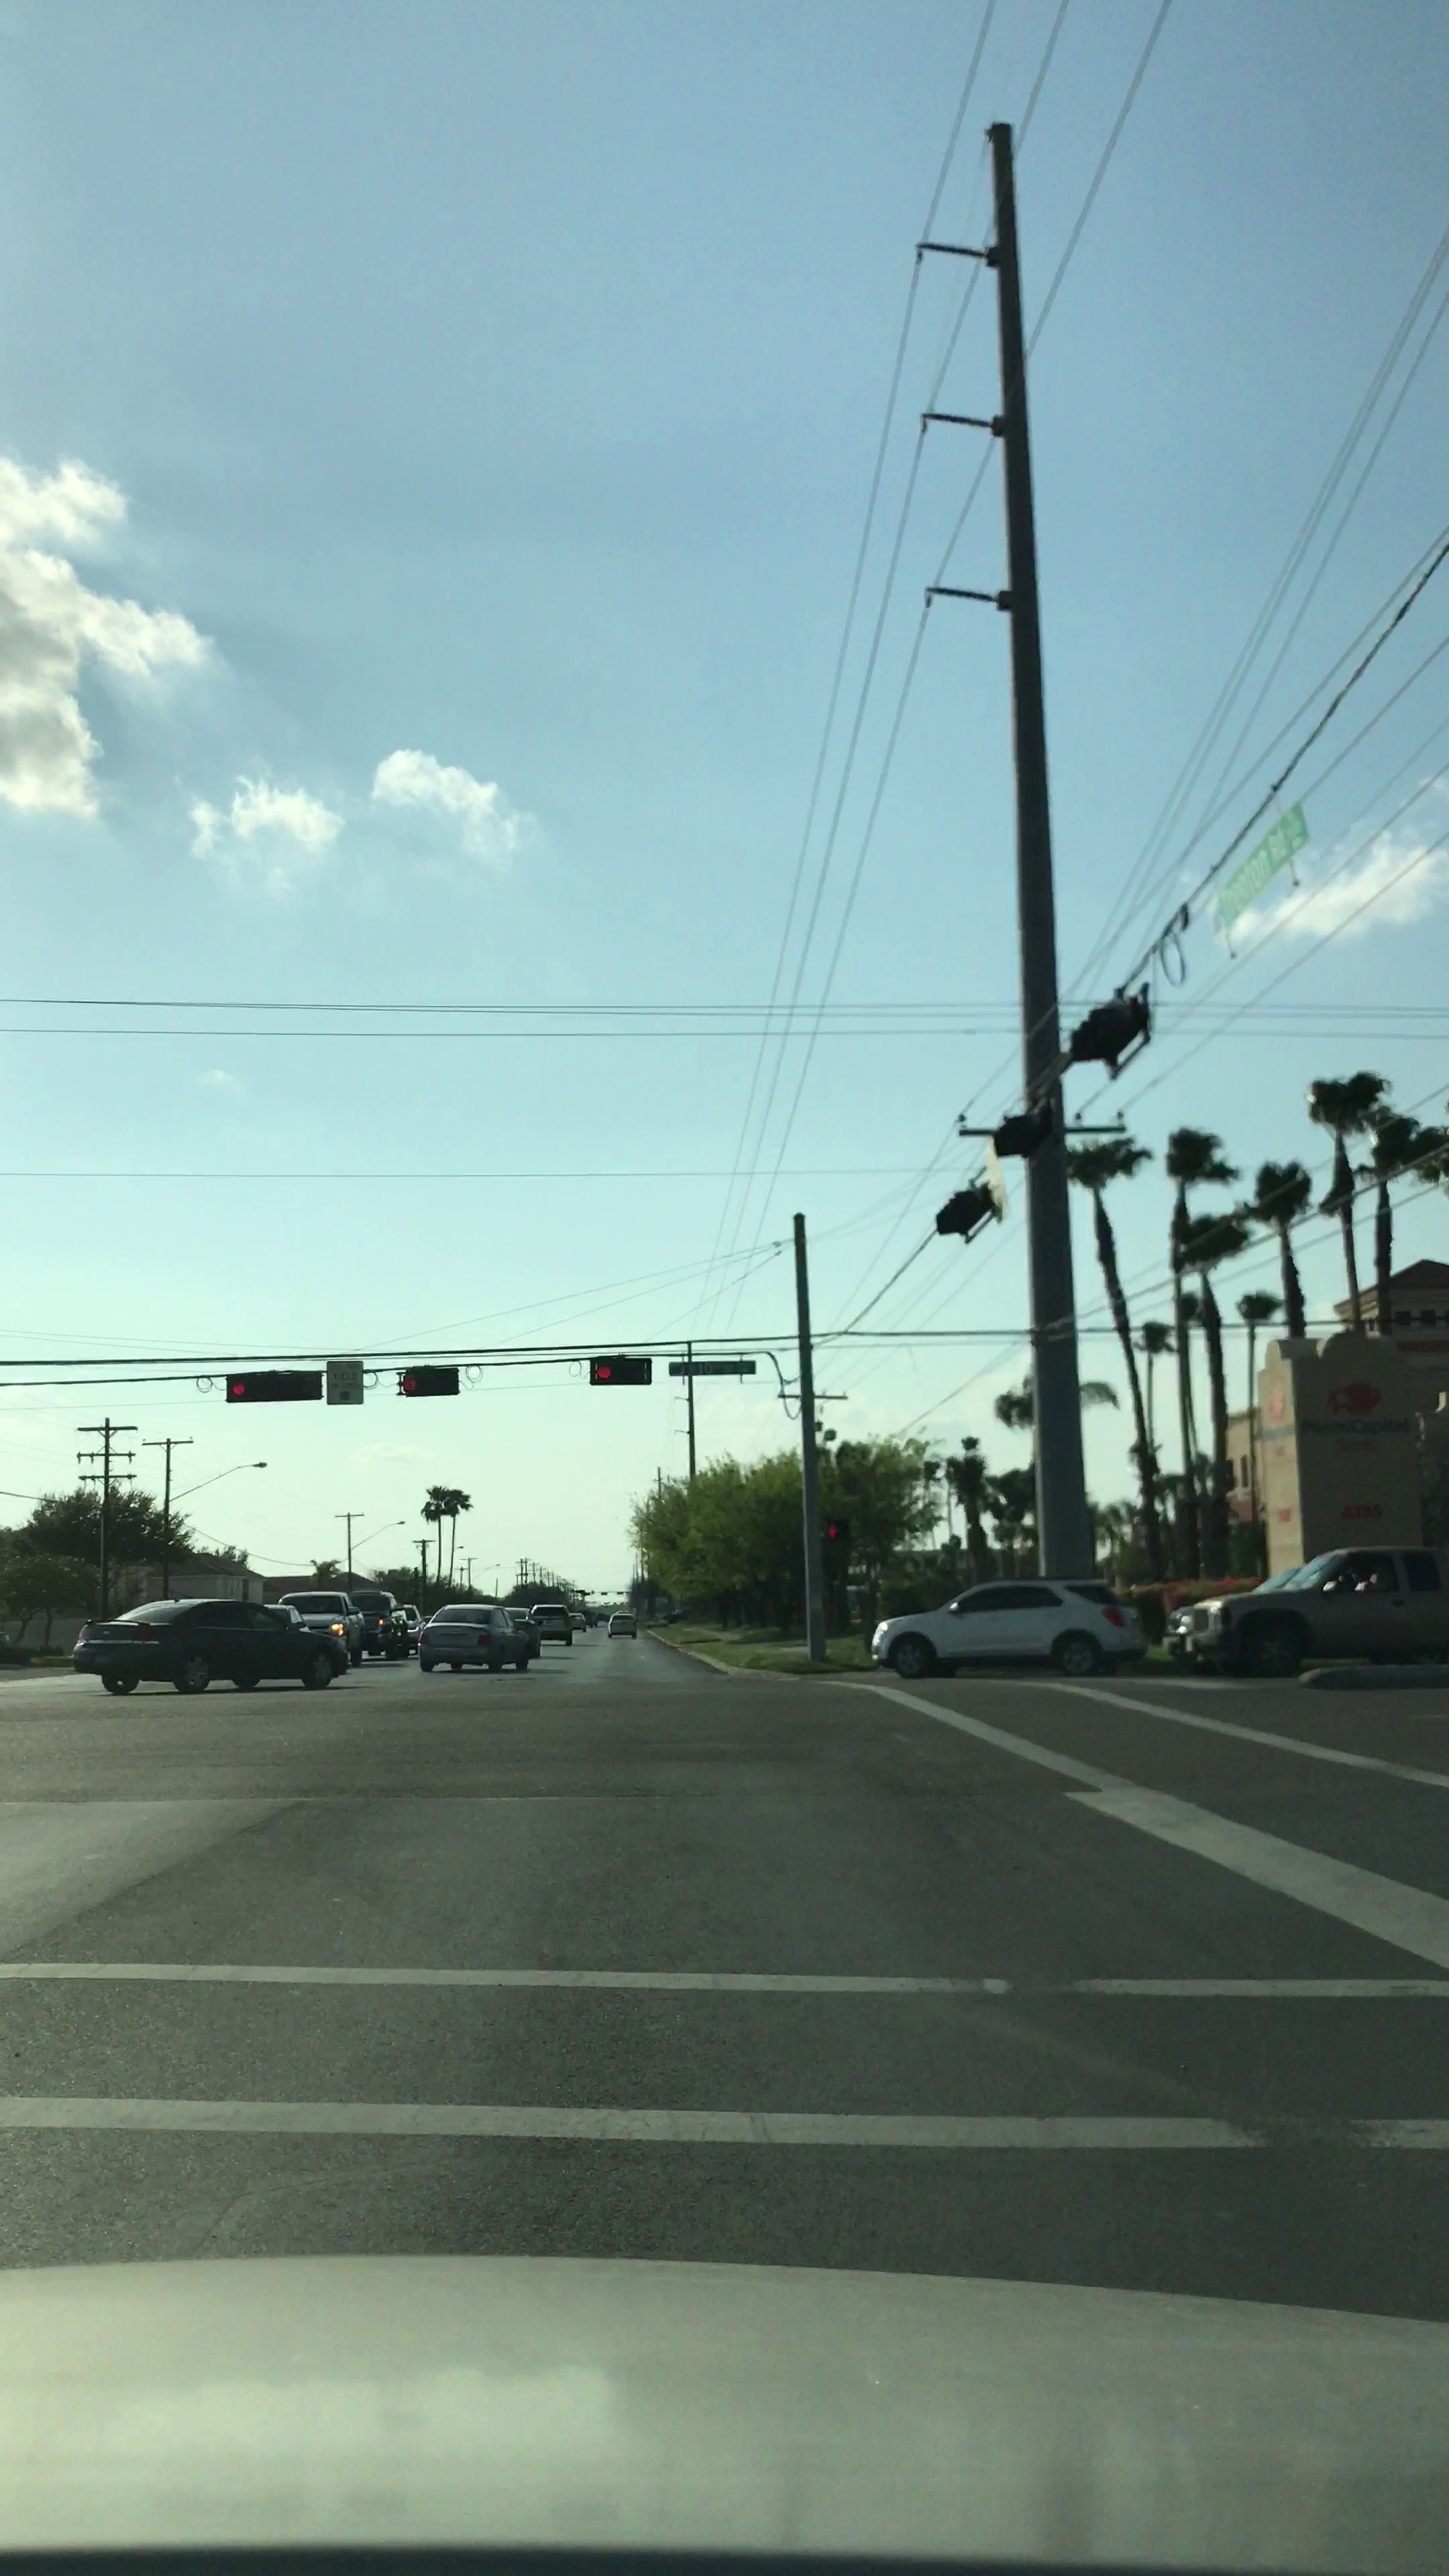blurredLine: (0, 1923, 1449, 2164)
